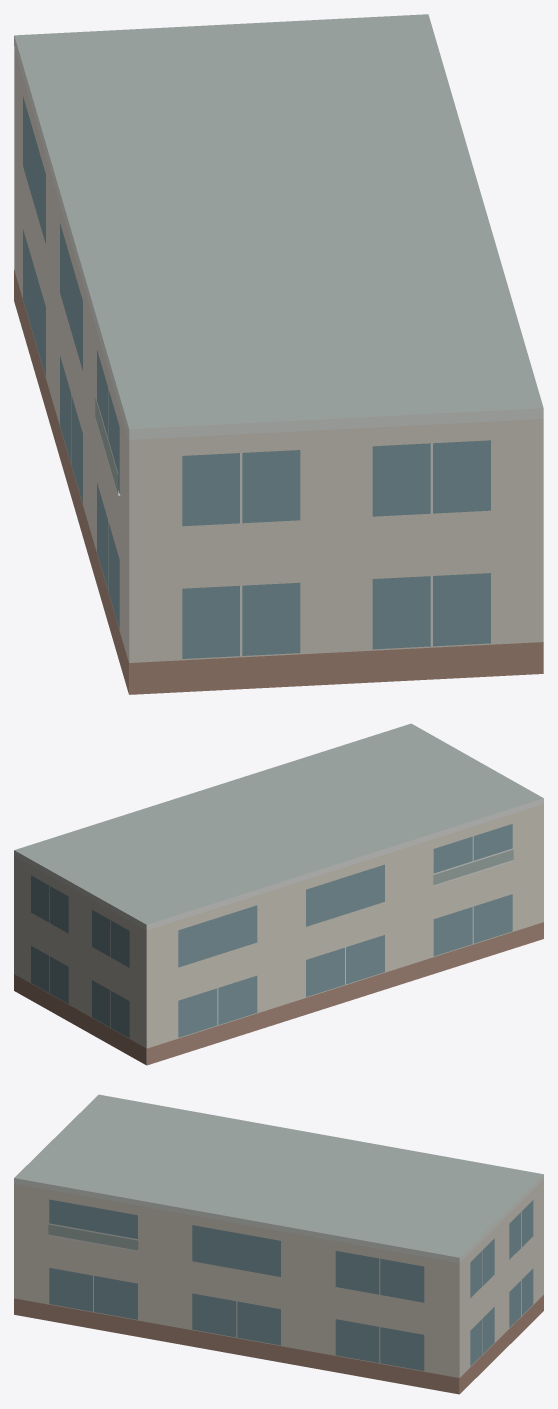
The model's file is survey-upis-32840112.glb.
The picture shows the model from 3 angles, top to bottom: view 1: azimuth 30°, elevation 25°; view 2: azimuth 150°, elevation 25°; view 3: azimuth 270°, elevation 25°; orthographic projection. The views are drawn at different scales.
Visible parts, largest first — view 1: survey-upis-32840112.tmp; view 2: survey-upis-32840112.tmp; view 3: survey-upis-32840112.tmp.
Boxes of the visible parts, x1,y1,x2,y2 form: survey-upis-32840112.tmp: (14, 14, 543, 694); survey-upis-32840112.tmp: (14, 723, 543, 1065); survey-upis-32840112.tmp: (14, 1094, 543, 1394).
Size of the model in its own units: 15.63 by 6.1 by 21.43.
